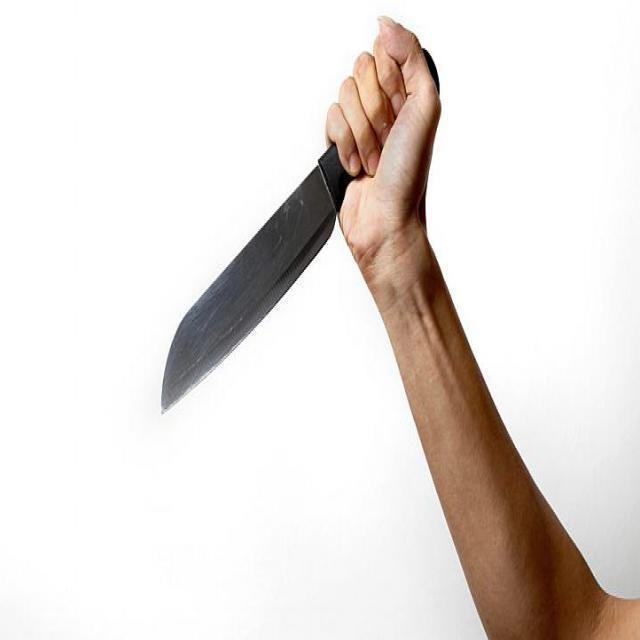Knife: (161, 146, 351, 409)
Knife_Handle: (112, 13, 507, 416)
